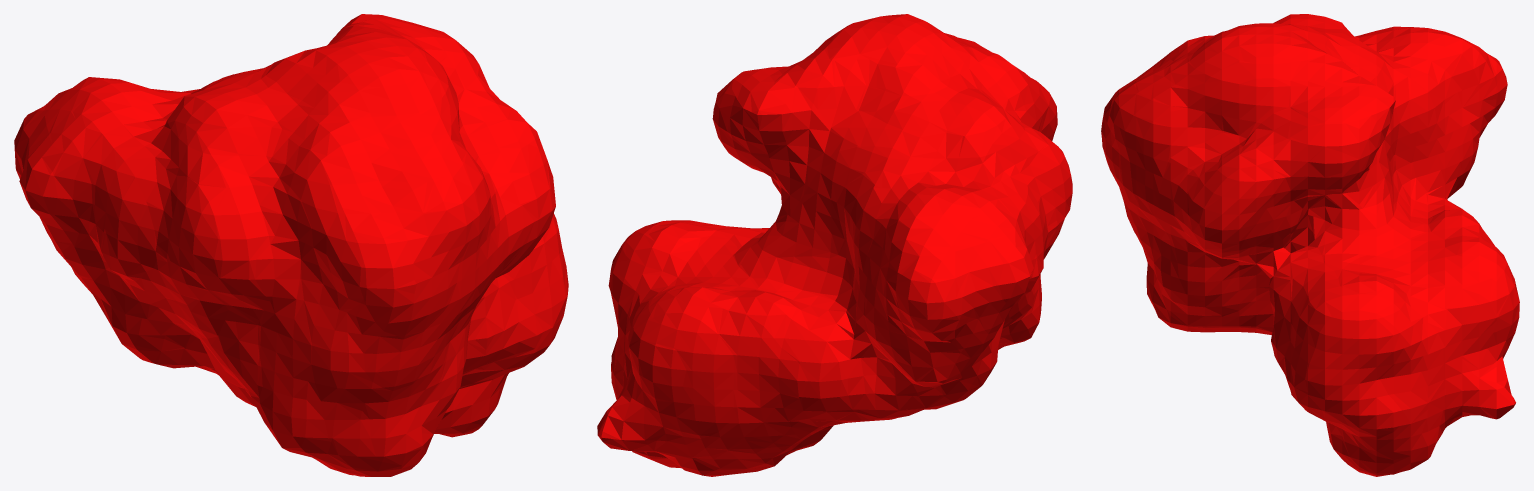
Rendered from pdxB_coarse.dae.
3 views of the same model, side by side, from view 1: azimuth 30°, elevation 25°; view 2: azimuth 150°, elevation 25°; view 3: azimuth 270°, elevation 25° (orthographic). The views are drawn at different scales.
Parts seen in each view (by area): view 1: pdxB; view 2: pdxB; view 3: pdxB.
Part boxes in pixels (x1,y1,x2,y2): pdxB: (14,14,568,476); pdxB: (597,14,1072,476); pdxB: (1101,14,1519,476).
Bounding box in the file's own units: 65.09 × 60.44 × 60.29.
